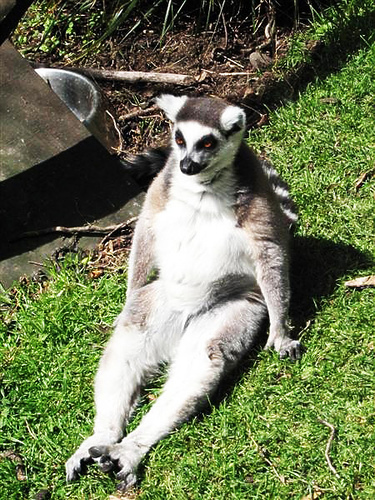cat: (61, 90, 307, 488)
